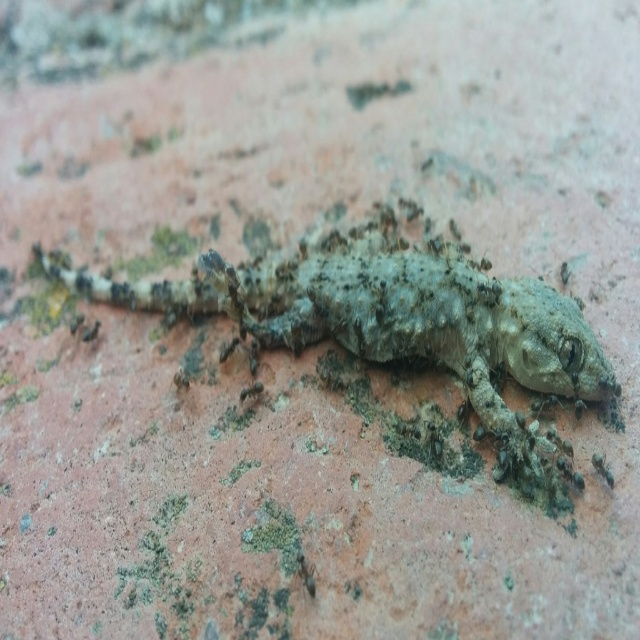Lizard: (41, 251, 616, 486)
